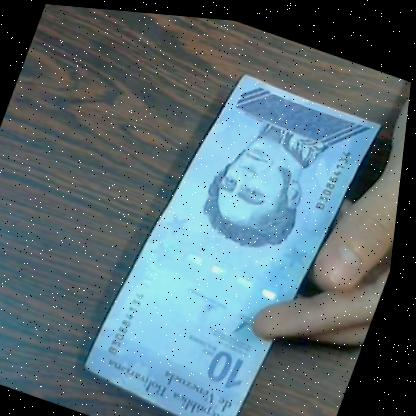vef_front: (81, 48, 387, 416)
